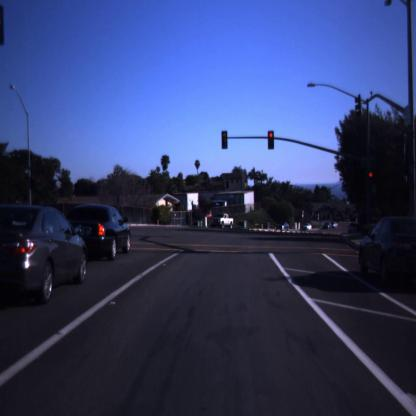trafficlight: (218, 127, 230, 150), (266, 128, 276, 150)
